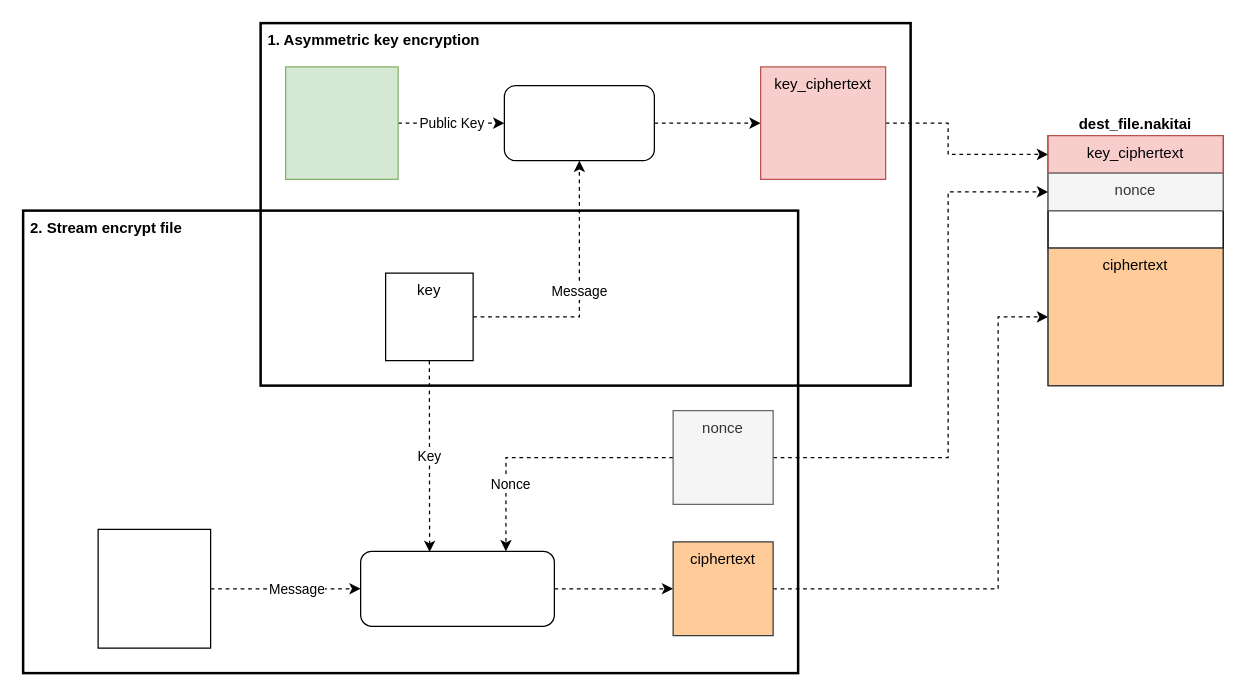
This 1245x695 diagram has some shape labels left out. Each missing label, with the centre of its shape:
"AEAD Stream Encrypter Chacha20Poly1305" goes at point (456, 588).
"File" goes at point (154, 588).
"public.pem" goes at point (341, 122).
"RSA 2048 Public Encrypt" goes at point (578, 122).
"safeword" goes at point (1135, 228).
